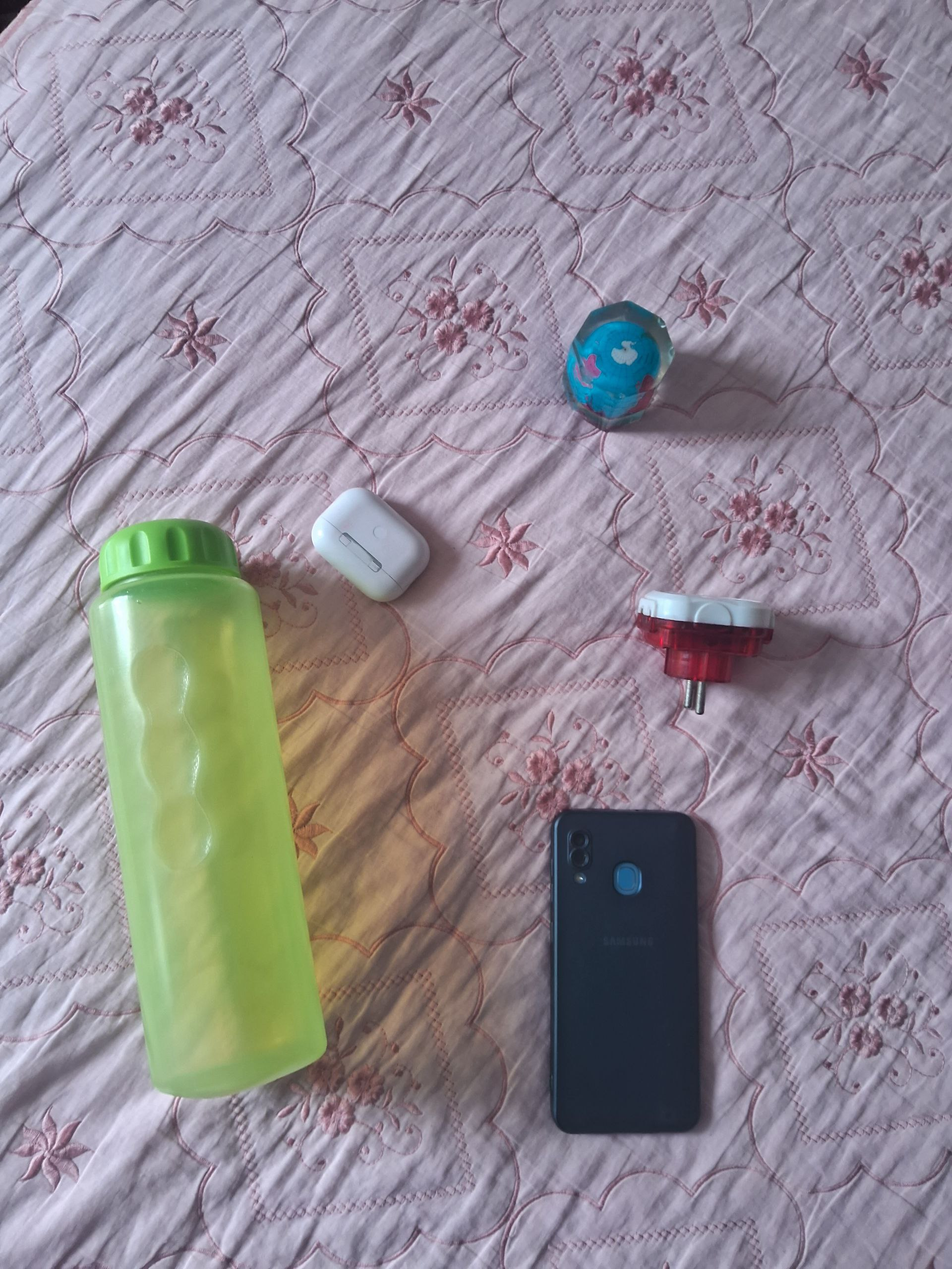Air_pod: (308, 484, 436, 606)
Multi_adapter: (627, 579, 784, 721)
Smart_phone: (540, 806, 710, 1139)
Water_bottle: (82, 509, 334, 1108)
world_globe: (560, 299, 678, 435)
